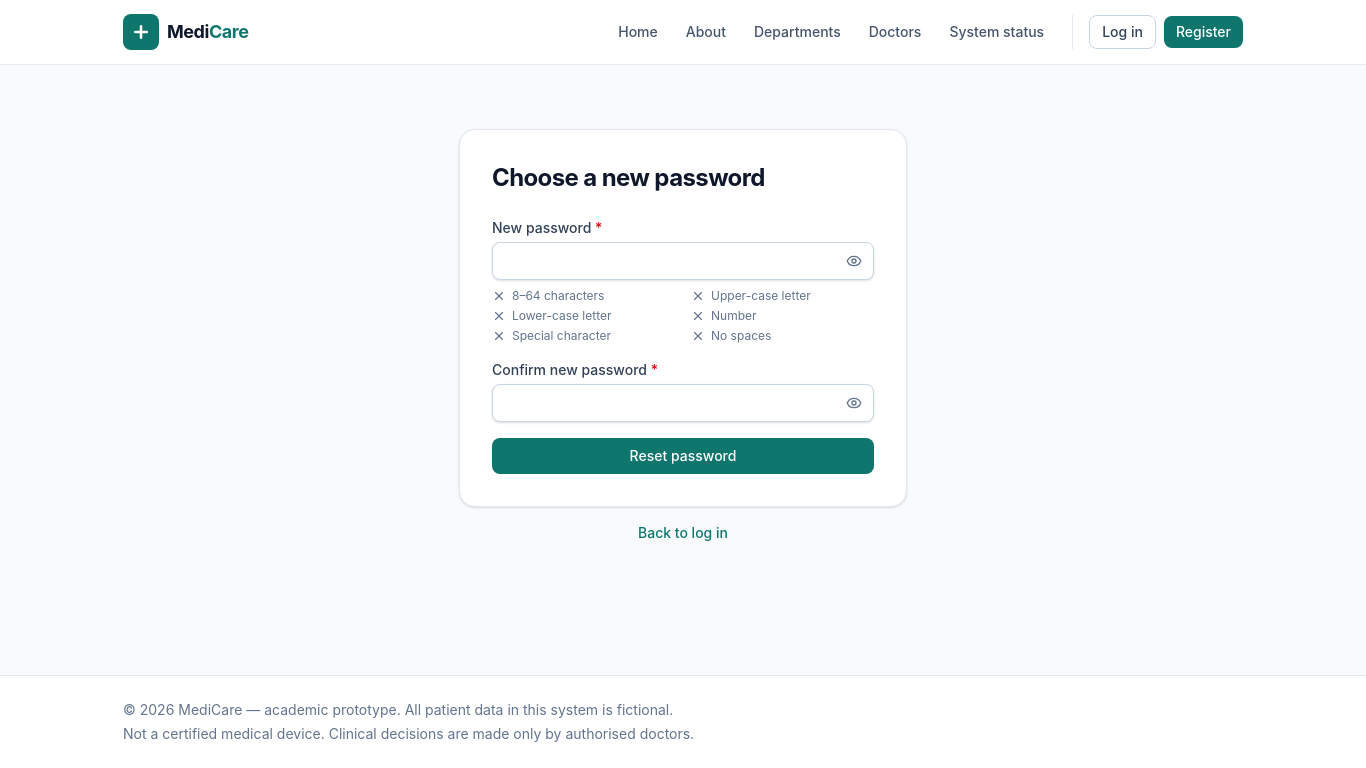
it: Password recovery pages › reset password shows an expired-token error
The width and height of the screenshot is (1366, 768).
Type "Reset@1234" into the password field labelled "New password *" at [683, 261], box [492,242,874,280]
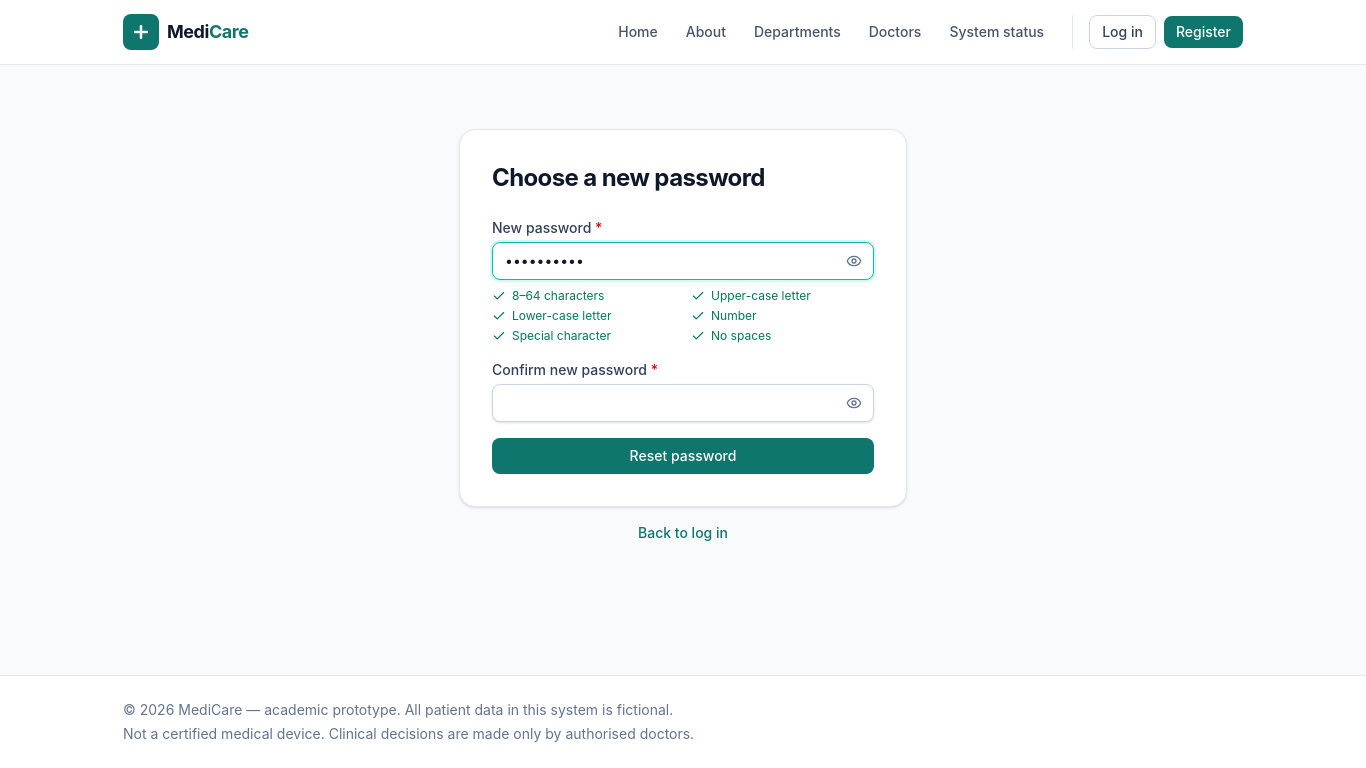
Type "Reset@1234" into the password field labelled "Confirm new password *" at [683, 403], box [492,384,874,422]
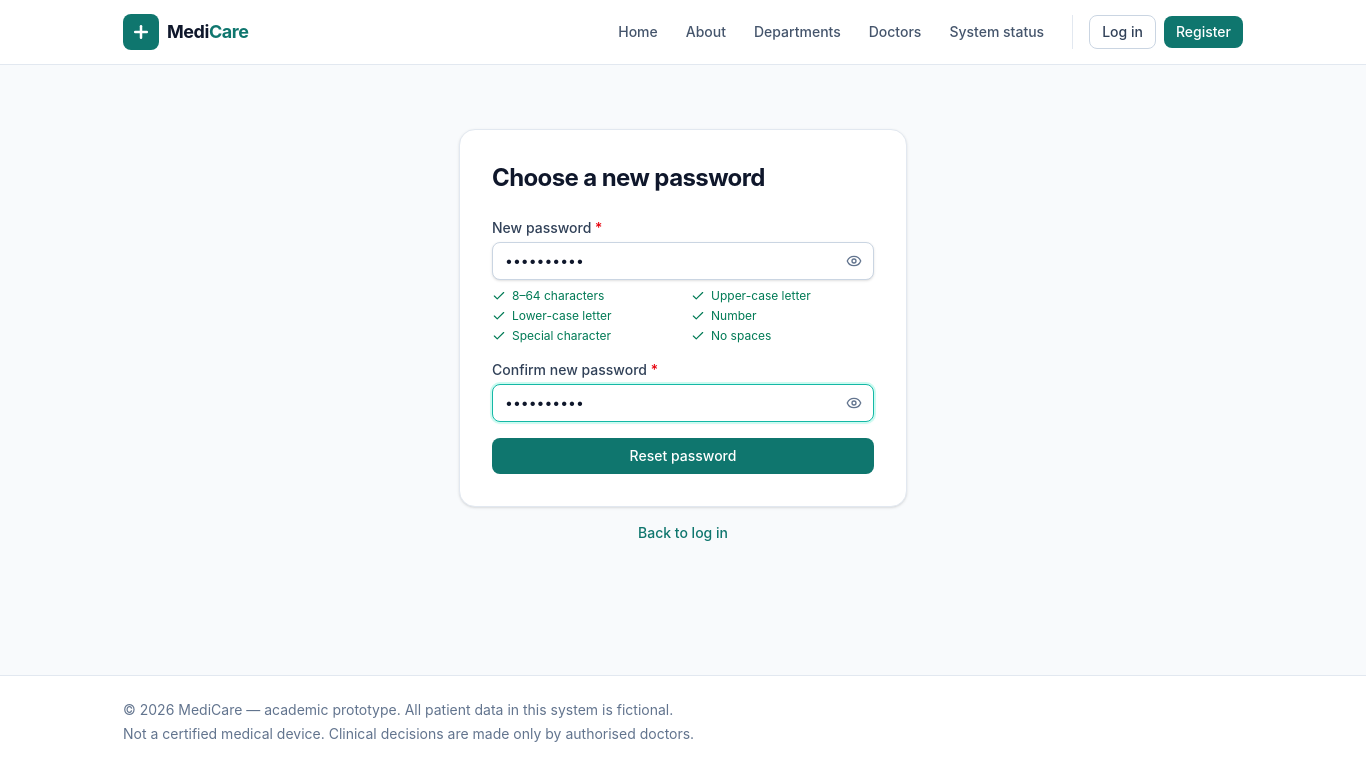
Click the button "Reset password" at [683, 456], box [492,438,874,474]
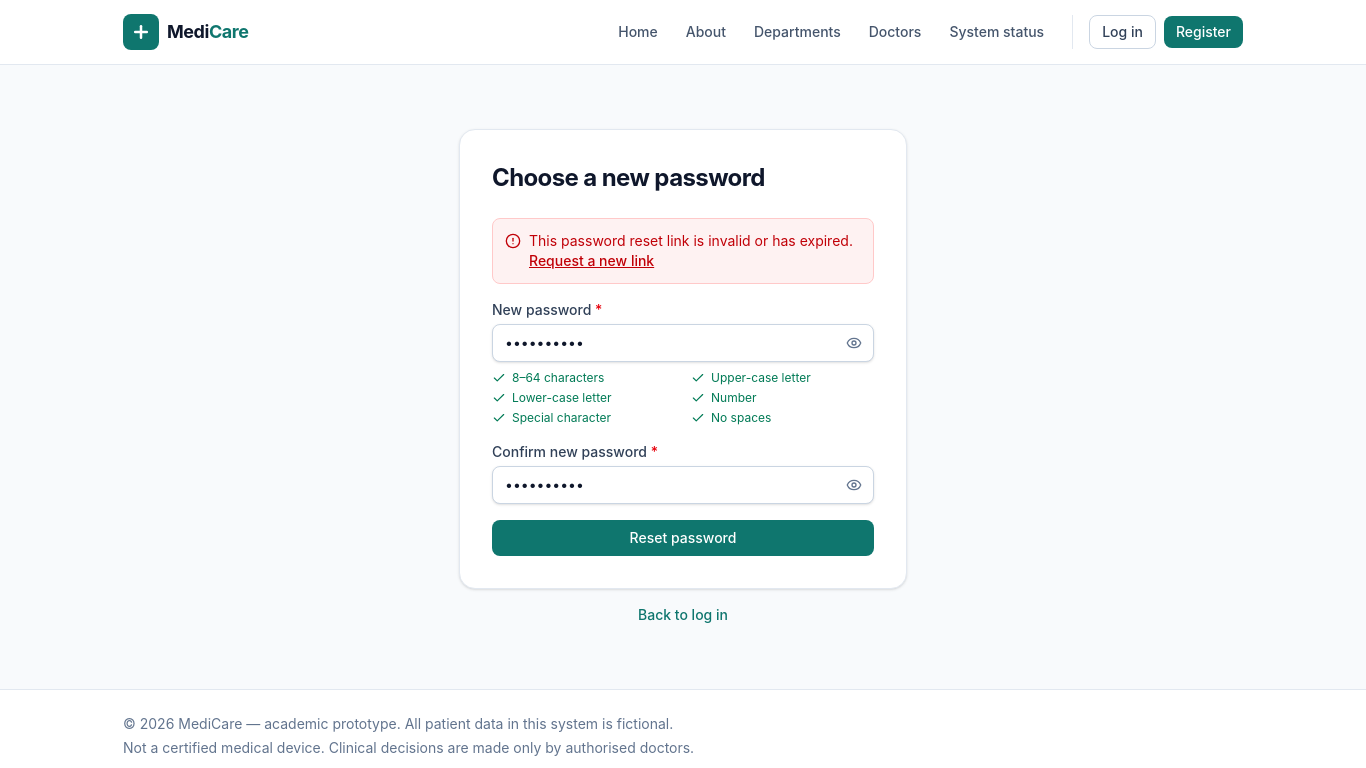
Check: the message shows "invalid or has expired", box [529,232,853,249]
